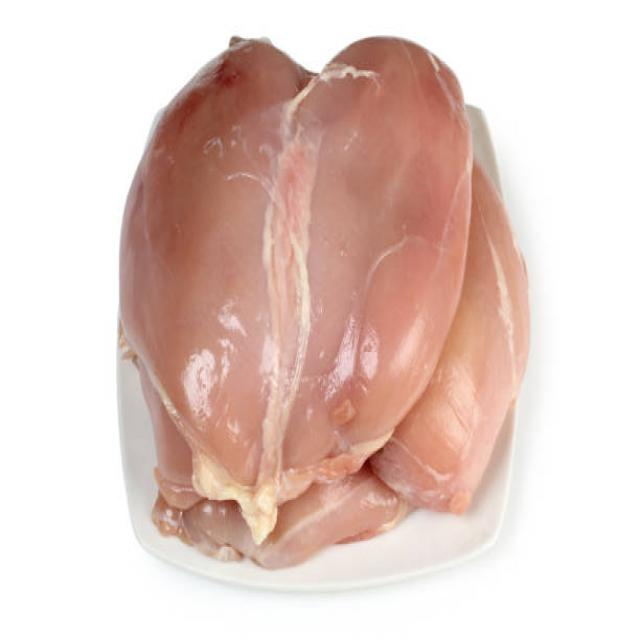Chicken: (84, 25, 572, 597)
